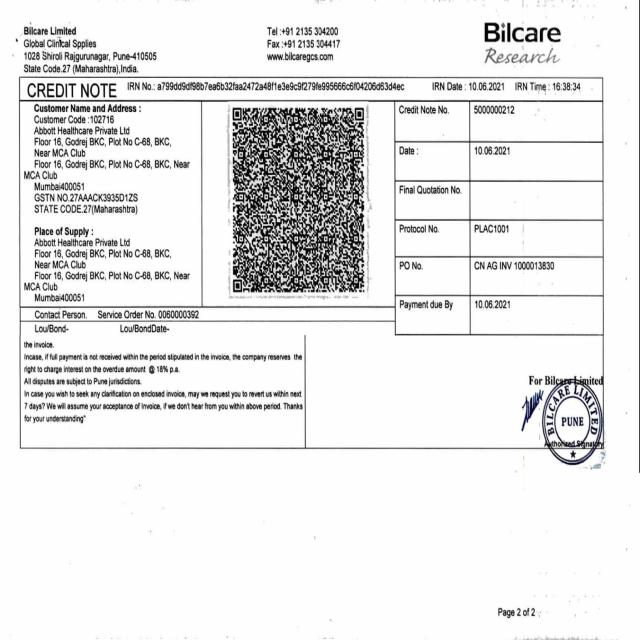QRCode: (226, 98, 371, 300)
